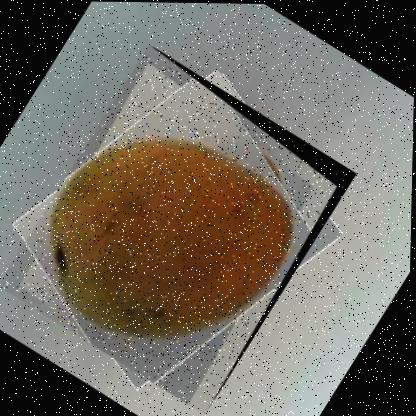mango: (0, 40, 360, 415)
